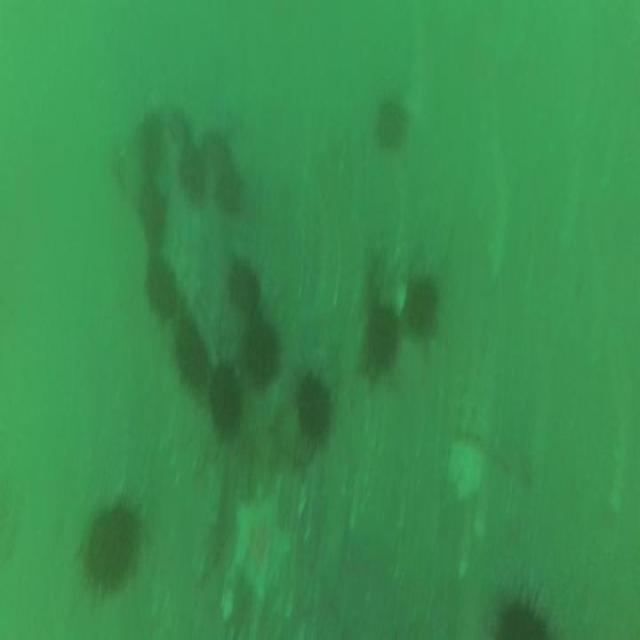echinus: (76, 490, 148, 607), (290, 359, 340, 450), (393, 264, 443, 352), (356, 292, 406, 376), (493, 570, 552, 640), (164, 306, 212, 392), (234, 318, 284, 397), (207, 128, 248, 218), (204, 350, 242, 446), (137, 248, 181, 321), (176, 134, 211, 210), (372, 85, 407, 160), (223, 258, 265, 319), (133, 110, 167, 176)
starfish: (229, 493, 291, 605)
